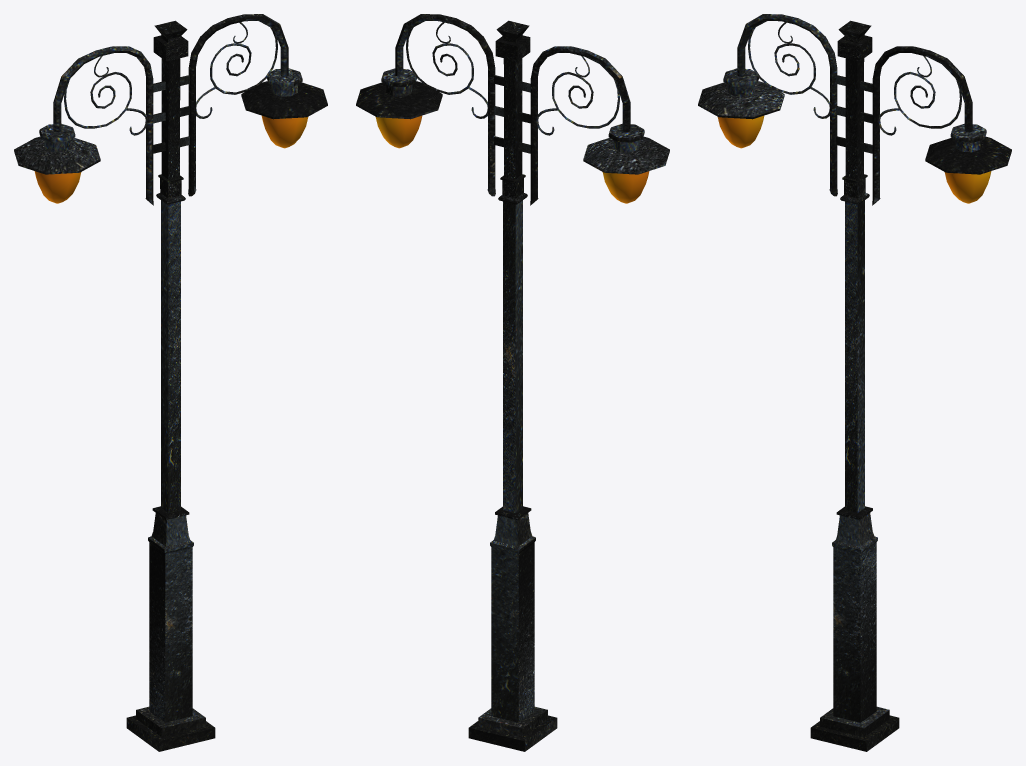
The model's file is textured lamp 12.fbx.
3 views of the same model, side by side, from view 1: azimuth 30°, elevation 25°; view 2: azimuth 150°, elevation 25°; view 3: azimuth 330°, elevation 25° (orthographic).
Parts seen in each view (by area): view 1: Circle.003, Circle.006; view 2: Circle.003, Circle.006; view 3: Circle.003, Circle.006.
Part boxes in pixels (box(x1,y1,x2,y2)): Circle.003: box(14, 14, 327, 751); Circle.006: box(34, 115, 308, 203); Circle.003: box(356, 14, 669, 751); Circle.006: box(375, 115, 649, 203); Circle.003: box(698, 14, 1011, 751); Circle.006: box(717, 115, 991, 203).
Bounding box in the file's own units: 202 × 450 × 51.44.
2 materials, 2 textured.
